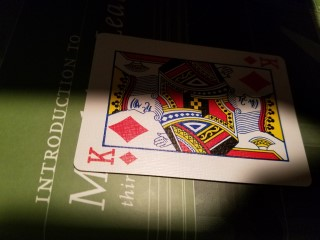KingOfDiamonds: (72, 32, 313, 190)
